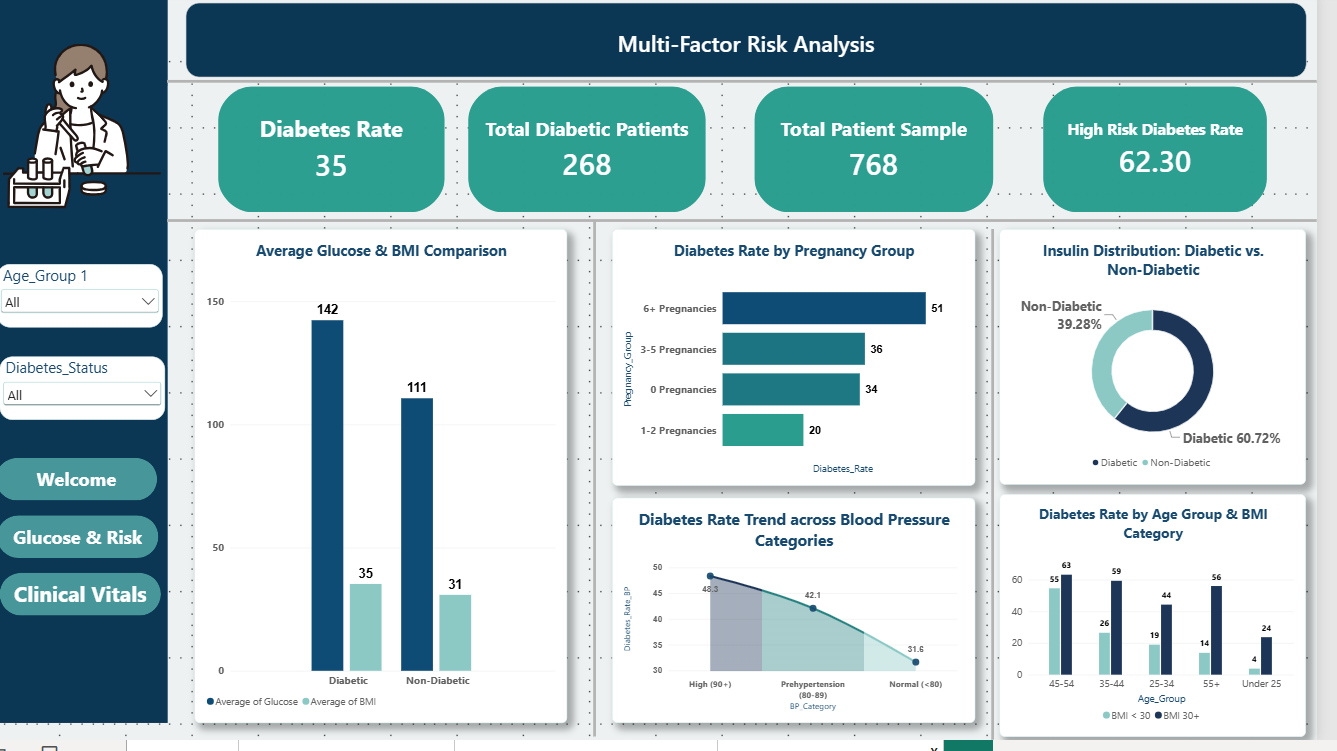

What the dashboard file says about the page in this screenshot:
{"tool":"powerbi","page":{"name":"Multi-Factor Risk Analysis","canvas":[1920,1080],"ordinal":3},"visuals":[{"type":"shape","box":[0,0,254,1056],"z":0},{"type":"shape","box":[254,120,1666,14],"z":1000},{"type":"shape","box":[862,328,22,748],"z":2000},{"type":"shape","box":[1440,340,20,740],"z":3000},{"type":"textbox","box":[280,12,1624,108],"z":4000},{"type":"shape","box":[254,324,1666,8],"z":5000},{"type":"slicer","fields":{"Values":["diabetes_cleaned.Age_Group 1"]},"box":[8,392,240,92],"z":6000},{"type":"image","box":[10,0,238,382],"z":7000},{"type":"cardVisual","fields":{"Data":["diabetes_cleaned.Diabetes_Rate"]},"box":[328,134,328,182],"z":8000},{"type":"cardVisual","fields":{"Data":["diabetes_cleaned.Diabetic_Patients"]},"box":[690,134,344,182],"z":9000},{"type":"cardVisual","fields":{"Data":["diabetes_cleaned.Total_Patients"]},"box":[1104,134,346,182],"z":10000},{"type":"cardVisual","fields":{"Data":["diabetes_cleaned.Triple_Risk_Rate"]},"box":[1524,134,324,182],"z":11000},{"type":"clusteredColumnChart","title":"Average Glucose & BMI Comparison","fields":{"Category":["diabetes_cleaned.Diabetes_Status"],"Y":["Avg(diabetes_cleaned.Glucose)","Avg(diabetes_cleaned.BMI)"]},"box":[294,340,540,716],"z":12000},{"type":"clusteredBarChart","title":"Diabetes Rate by Pregnancy Group","fields":{"Category":["diabetes_cleaned.Pregnancy_Group"],"Y":["diabetes_cleaned.Diabetes_Rate"]},"box":[898,340,526,372],"z":13000},{"type":"areaChart","title":"Diabetes Rate Trend across Blood Pressure Categories","fields":{"Category":["diabetes_cleaned.BP_Category"],"Y":["diabetes_cleaned.Diabetes_Rate_BP"]},"box":[898,730,526,326],"z":14000},{"type":"donutChart","title":"Insulin Distribution: Diabetic vs. Non-Diabetic","fields":{"Category":["diabetes_cleaned.Diabetes_Status"],"Y":["Avg(diabetes_cleaned.Insulin)"]},"box":[1460,340,444,370],"z":15000},{"type":"clusteredColumnChart","title":"Diabetes Rate by Age Group & BMI Category","fields":{"Category":["diabetes_cleaned.Age_Group 1"],"Series":["diabetes_cleaned.BMI_Group"],"Y":["diabetes_cleaned.Diabetes_Rate"]},"box":[1460,724,444,352],"z":16000},{"type":"actionButton","box":[6,672,234,62],"z":17000},{"type":"actionButton","box":[10,838,234,62],"z":18000},{"type":"actionButton","box":[8,756,234,62],"z":19000},{"type":"slicer","fields":{"Values":["diabetes_cleaned.Diabetes_Status"]},"box":[10,526,240,92],"z":20000}]}

Visuals, with their boxes on the page's 1920x1080 design canvas (x1, y1, x2, y2). These are canvas units, not pixel positions in the 1337x751 screenshot, which may show the page scaled, cropped or inside an application window:
shape: locate(0, 0, 254, 1056)
shape: locate(254, 120, 1920, 134)
shape: locate(862, 328, 884, 1076)
shape: locate(1440, 340, 1460, 1080)
textbox: locate(280, 12, 1904, 120)
shape: locate(254, 324, 1920, 332)
slicer - diabetes_cleaned.Age_Group 1: locate(8, 392, 248, 484)
image: locate(10, 0, 248, 382)
cardVisual - diabetes_cleaned.Diabetes_Rate: locate(328, 134, 656, 316)
cardVisual - diabetes_cleaned.Diabetic_Patients: locate(690, 134, 1034, 316)
cardVisual - diabetes_cleaned.Total_Patients: locate(1104, 134, 1450, 316)
cardVisual - diabetes_cleaned.Triple_Risk_Rate: locate(1524, 134, 1848, 316)
"Average Glucose & BMI Comparison" clusteredColumnChart: locate(294, 340, 834, 1056)
"Diabetes Rate by Pregnancy Group" clusteredBarChart: locate(898, 340, 1424, 712)
"Diabetes Rate Trend across Blood Pressure Categories" areaChart: locate(898, 730, 1424, 1056)
"Insulin Distribution: Diabetic vs. Non-Diabetic" donutChart: locate(1460, 340, 1904, 710)
"Diabetes Rate by Age Group & BMI Category" clusteredColumnChart: locate(1460, 724, 1904, 1076)
actionButton: locate(6, 672, 240, 734)
actionButton: locate(10, 838, 244, 900)
actionButton: locate(8, 756, 242, 818)
slicer - diabetes_cleaned.Diabetes_Status: locate(10, 526, 250, 618)
